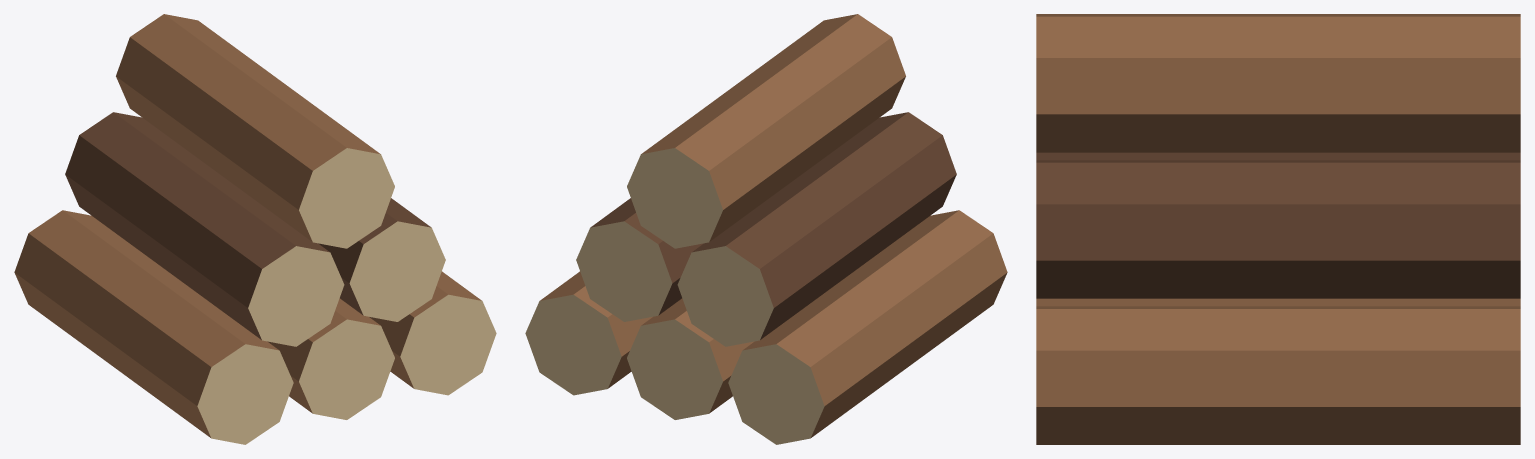
The model's file is deco_woodpile.obj.
3 views of the same model, side by side, from view 1: azimuth 30°, elevation 25°; view 2: azimuth 150°, elevation 25°; view 3: azimuth 270°, elevation 25° (orthographic). The views are drawn at different scales.
Visible parts, largest first — view 1: deco_woodpile; view 2: deco_woodpile; view 3: deco_woodpile.
Boxes of the visible parts, x1,y1,x2,y2 form: deco_woodpile: (14, 14, 496, 444); deco_woodpile: (525, 14, 1007, 444); deco_woodpile: (1036, 14, 1520, 444).
Bounding box in the file's own units: 0.0236 × 0.0205 × 0.025.
Materials: 1 (1 with a texture image).
